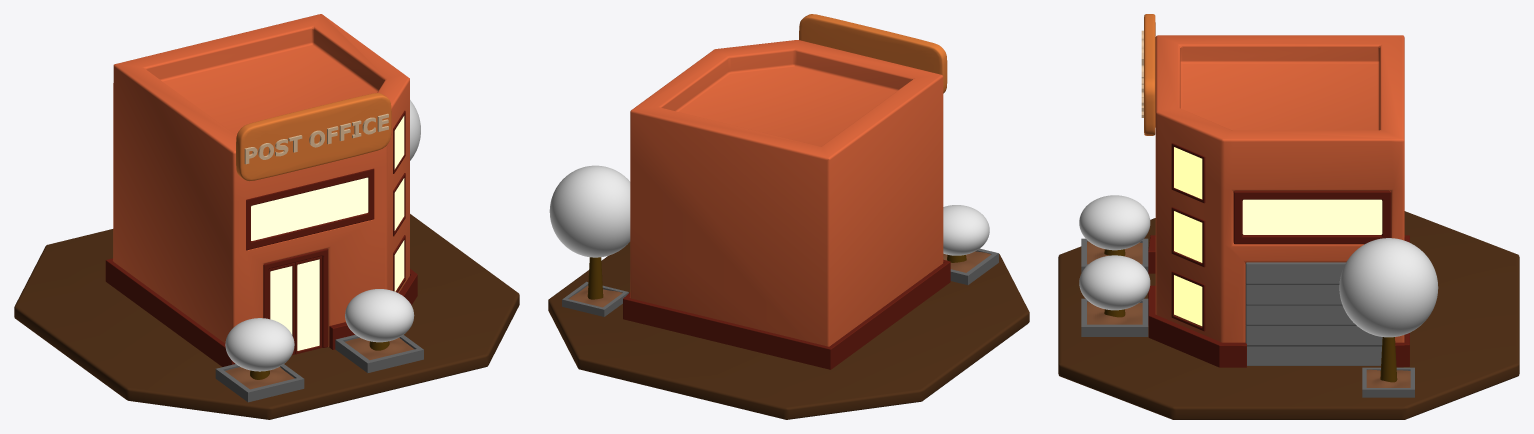
File: post office.fbx
3 views of the same model, side by side, from view 1: azimuth 30°, elevation 25°; view 2: azimuth 150°, elevation 25°; view 3: azimuth 270°, elevation 25° (orthographic). The views are drawn at different scales.
Parts seen in each view (by area): view 1: Cube.009, Cube.002, Cube.012, Cube.021, Cube.017, Cube.026, Sphere.029, Sphere.005, Cube.019, Text, Cube.184, Cube.078 (+7 smaller); view 2: Cube.009, Cube.002, Cube.017, Sphere, Cube.012, Sphere.029, Cube.018, Cube.184, Cylinder.014, Plane.055, Plane.065; view 3: Cube.009, Cube.002, Cube.014, Sphere, Cube.023, Cube.022, Cube.017, Cube.200, Sphere.005, Sphere.029, Cube.015, Cube.012 (+6 smaller).
Part boxes in pixels (x1,y1,x2,y2): Cube.009: (113, 14, 409, 346); Cube.002: (14, 214, 519, 419); Cube.012: (236, 93, 391, 181); Cube.021: (251, 177, 368, 240); Cube.017: (105, 258, 417, 366); Cube.026: (270, 259, 319, 350); Sphere.029: (225, 318, 294, 371); Sphere.005: (345, 289, 414, 342); Cube.019: (246, 168, 374, 250); Text: (244, 113, 388, 164); Cube.184: (215, 364, 304, 402); Cube.078: (335, 334, 423, 372); Cube.009: (630, 40, 943, 346); Cube.002: (548, 242, 1029, 419); Cube.017: (623, 259, 950, 369); Sphere: (549, 165, 630, 257); Cube.012: (799, 14, 947, 93); Sphere.029: (943, 205, 989, 255); Cube.018: (562, 281, 628, 316); Cube.184: (950, 248, 998, 284); Cylinder.014: (587, 257, 603, 299); Plane.055: (569, 286, 622, 307); Plane.065: (943, 251, 990, 272); Cube.009: (1155, 35, 1404, 342); Cube.002: (1058, 211, 1519, 419); Cube.014: (1245, 262, 1382, 365); Sphere: (1339, 238, 1438, 337); Cube.023: (1242, 199, 1382, 234); Cube.022: (1233, 190, 1391, 244); Cube.017: (1148, 235, 1409, 367); Cube.200: (1174, 147, 1202, 325); Sphere.005: (1079, 255, 1150, 310); Sphere.029: (1079, 195, 1150, 250); Cube.015: (1171, 143, 1205, 331); Cube.012: (1144, 14, 1155, 135).
Size of the model in its own units: 737 by 461 by 727.
